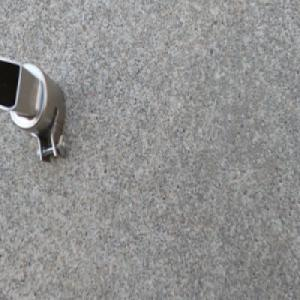MetalPart: (0, 55, 69, 165)
